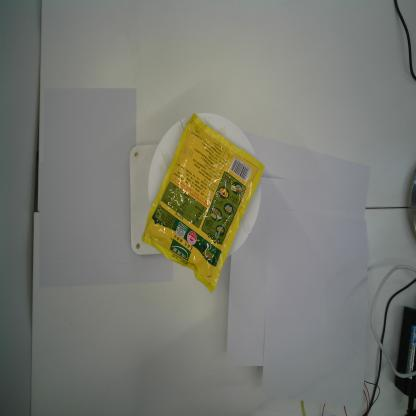Seasoner: (140, 112, 266, 296)
